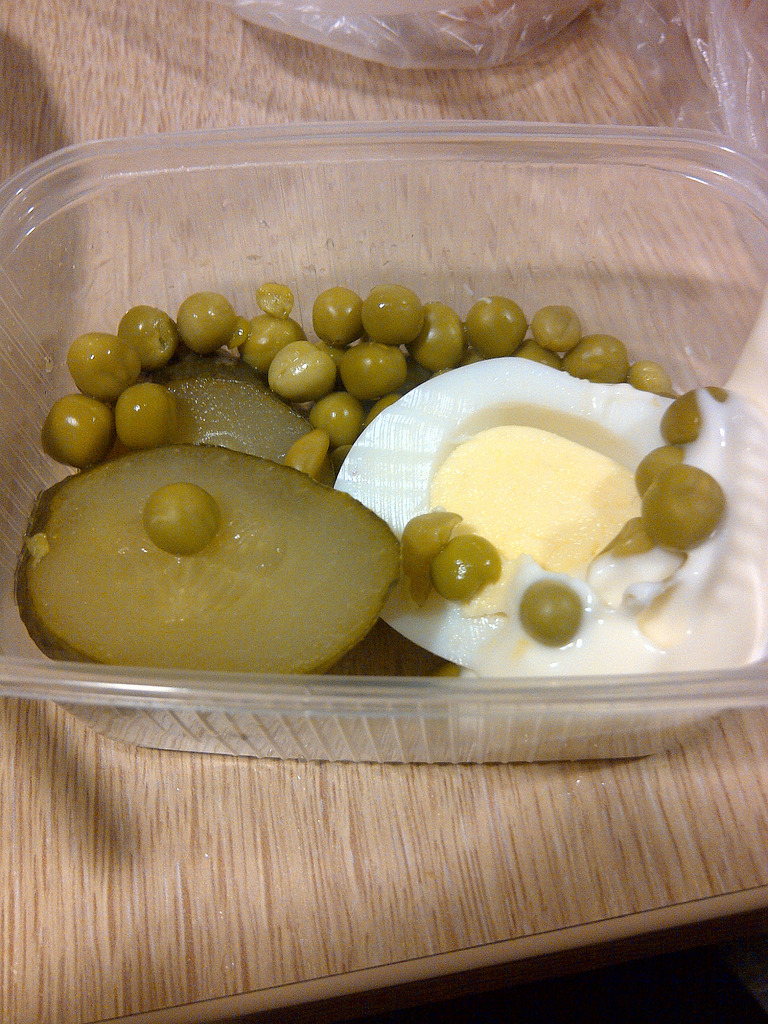boiled peas: (57, 299, 599, 441), (633, 453, 712, 554), (406, 523, 489, 599), (149, 480, 212, 551), (519, 579, 582, 644)
